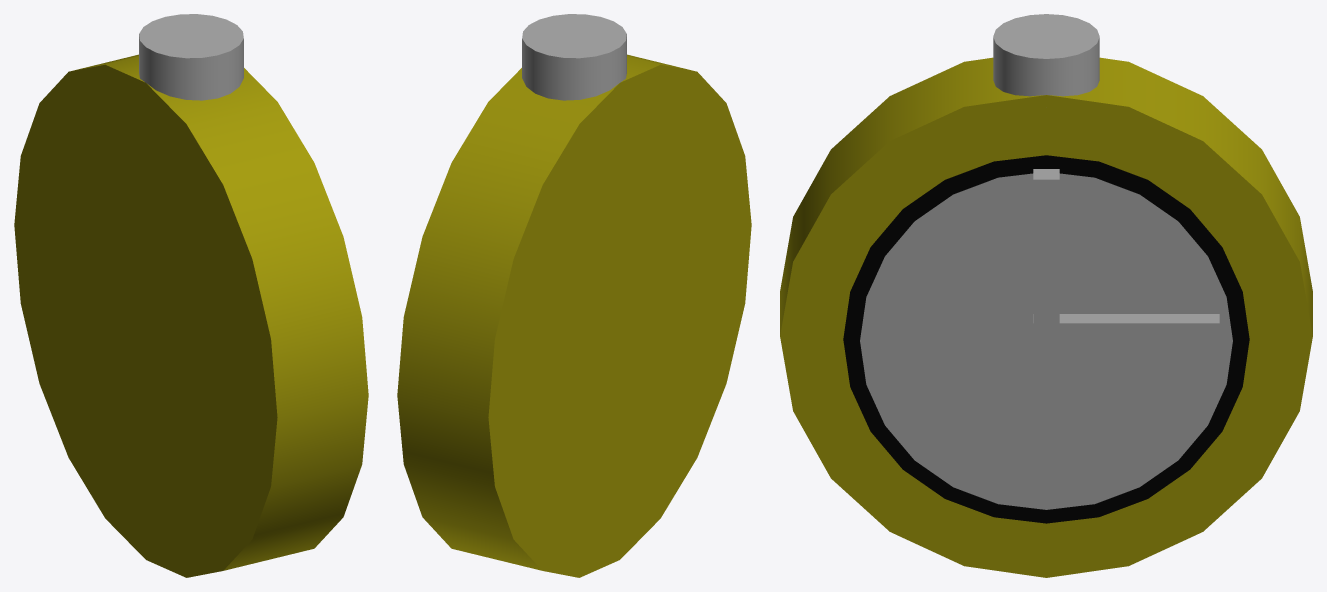
Rendered from Timer.fbx.
3 renders of one model, left to right at view 1: azimuth 30°, elevation 25°; view 2: azimuth 150°, elevation 25°; view 3: azimuth 270°, elevation 25°, orthographic.
Visible parts, largest first — view 1: pDisc3; view 2: pDisc3; view 3: pDisc3.
Boxes of the visible parts, box(x1,y1,x2,y2) form: pDisc3: box(14, 14, 368, 577); pDisc3: box(397, 14, 751, 577); pDisc3: box(780, 14, 1312, 577).
Size of the model in its own units: 0.3852 by 1.59 by 1.48.
